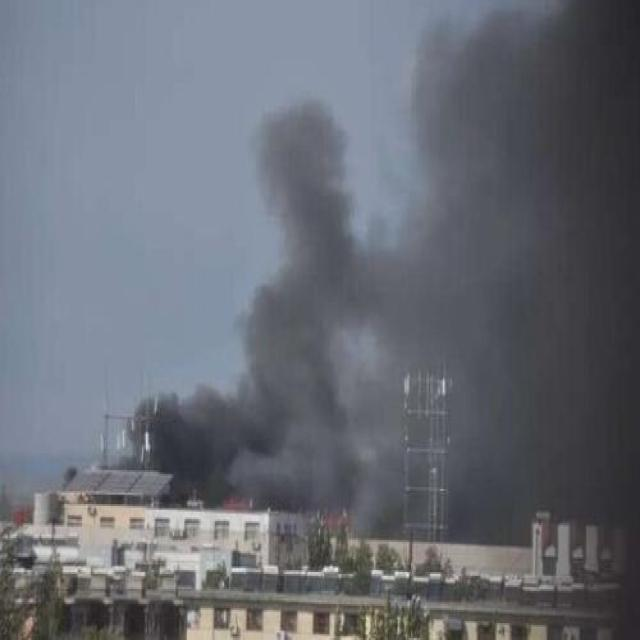Smoke: (110, 2, 640, 546)
